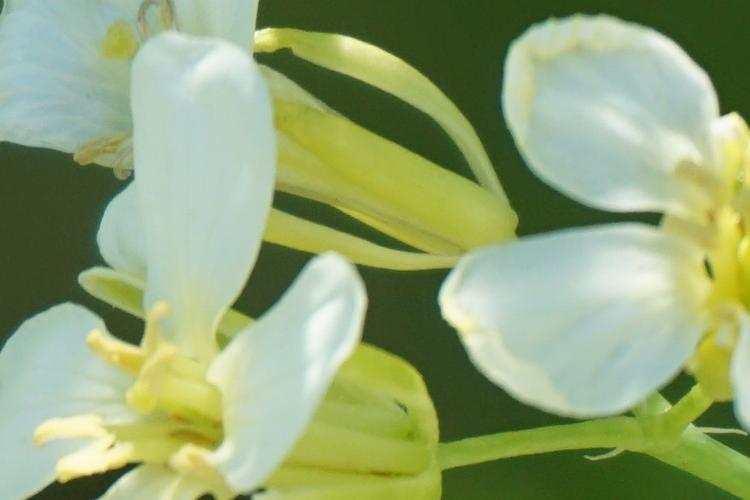white: (3, 33, 360, 500), (453, 19, 750, 428)
